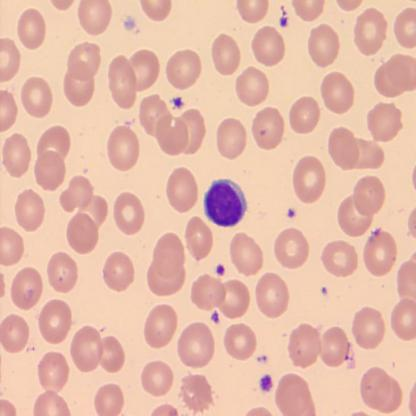Lymphocyte: (202, 178, 248, 228)
